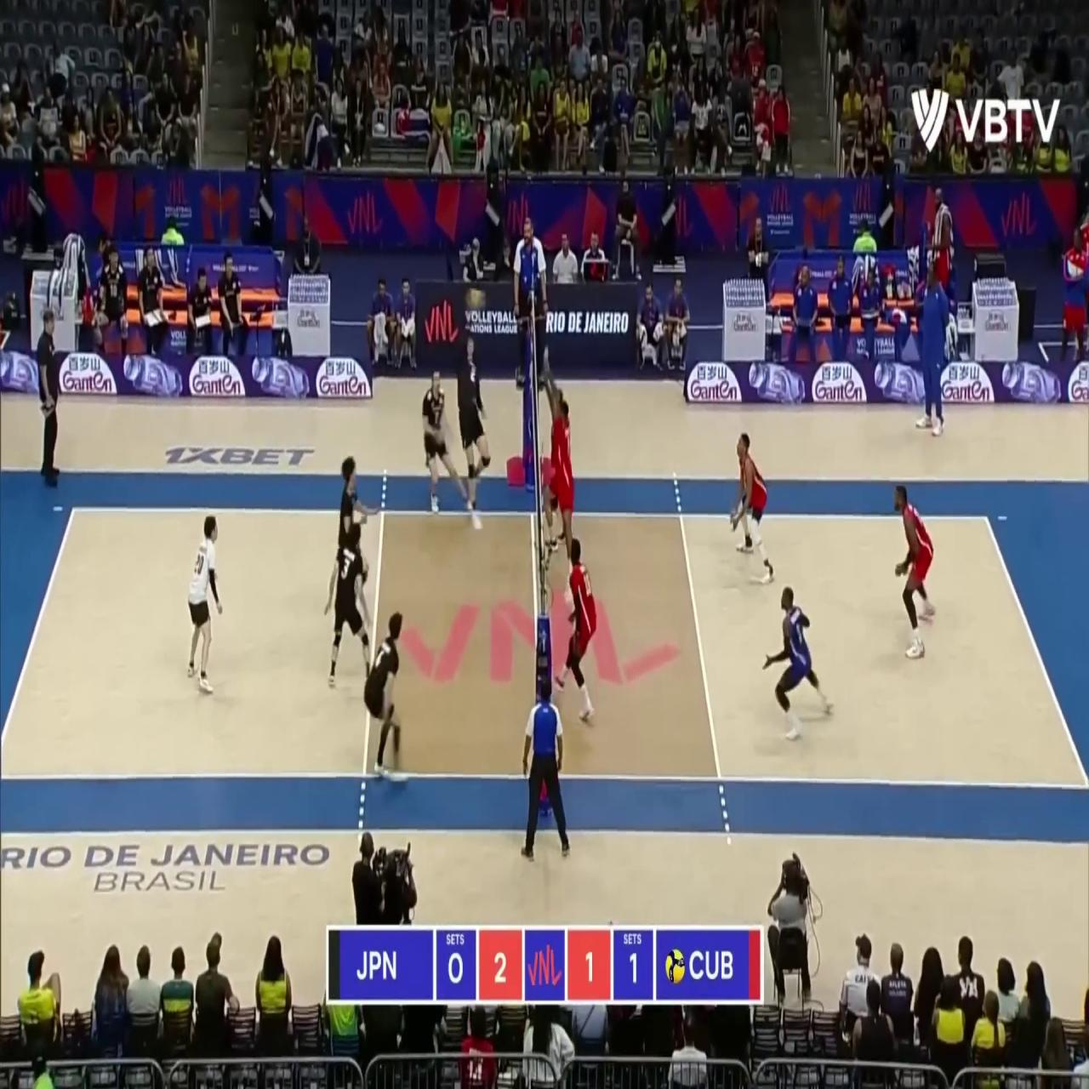ball: (468, 287, 484, 307)
